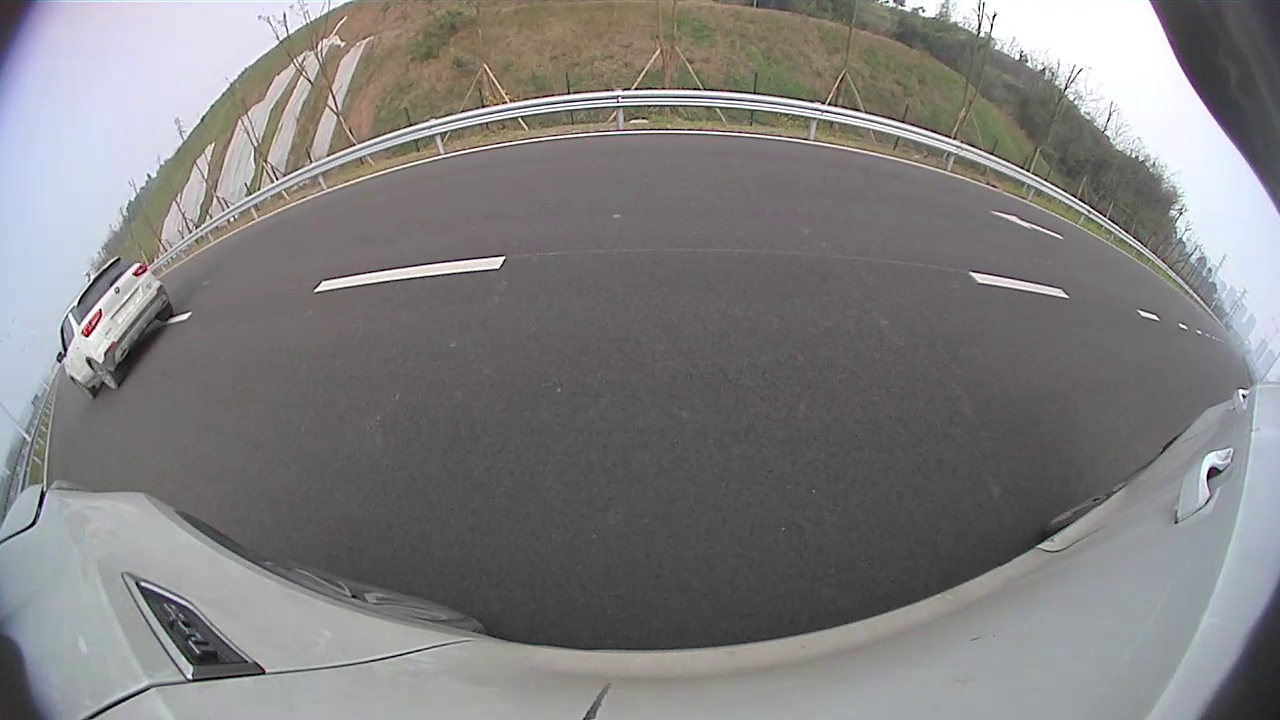car: (57, 255, 175, 398)
rear: (89, 358, 119, 391)
